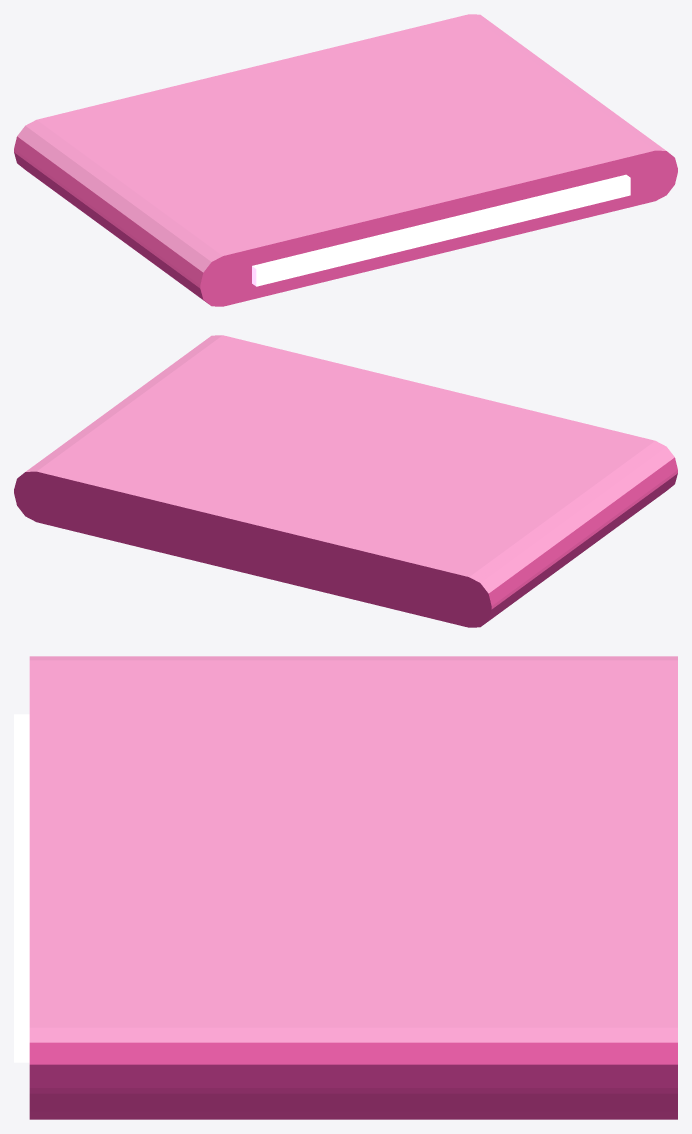
The model's file is Plate3D_Pad.gltf.
3 renders of one model, top to bottom at view 1: azimuth 30°, elevation 25°; view 2: azimuth 150°, elevation 25°; view 3: azimuth 270°, elevation 25°, orthographic. The views are drawn at different scales.
Visible parts, largest first — view 1: Plate3D_Pad_baked; view 2: Plate3D_Pad_baked; view 3: Plate3D_Pad_baked.
Part boxes in pixels (x1,y1,x2,y2): Plate3D_Pad_baked: (14,14,677,306); Plate3D_Pad_baked: (14,335,677,627); Plate3D_Pad_baked: (14,656,677,1119).
Size of the model in its own units: 0.74 by 0.075 by 0.512.
